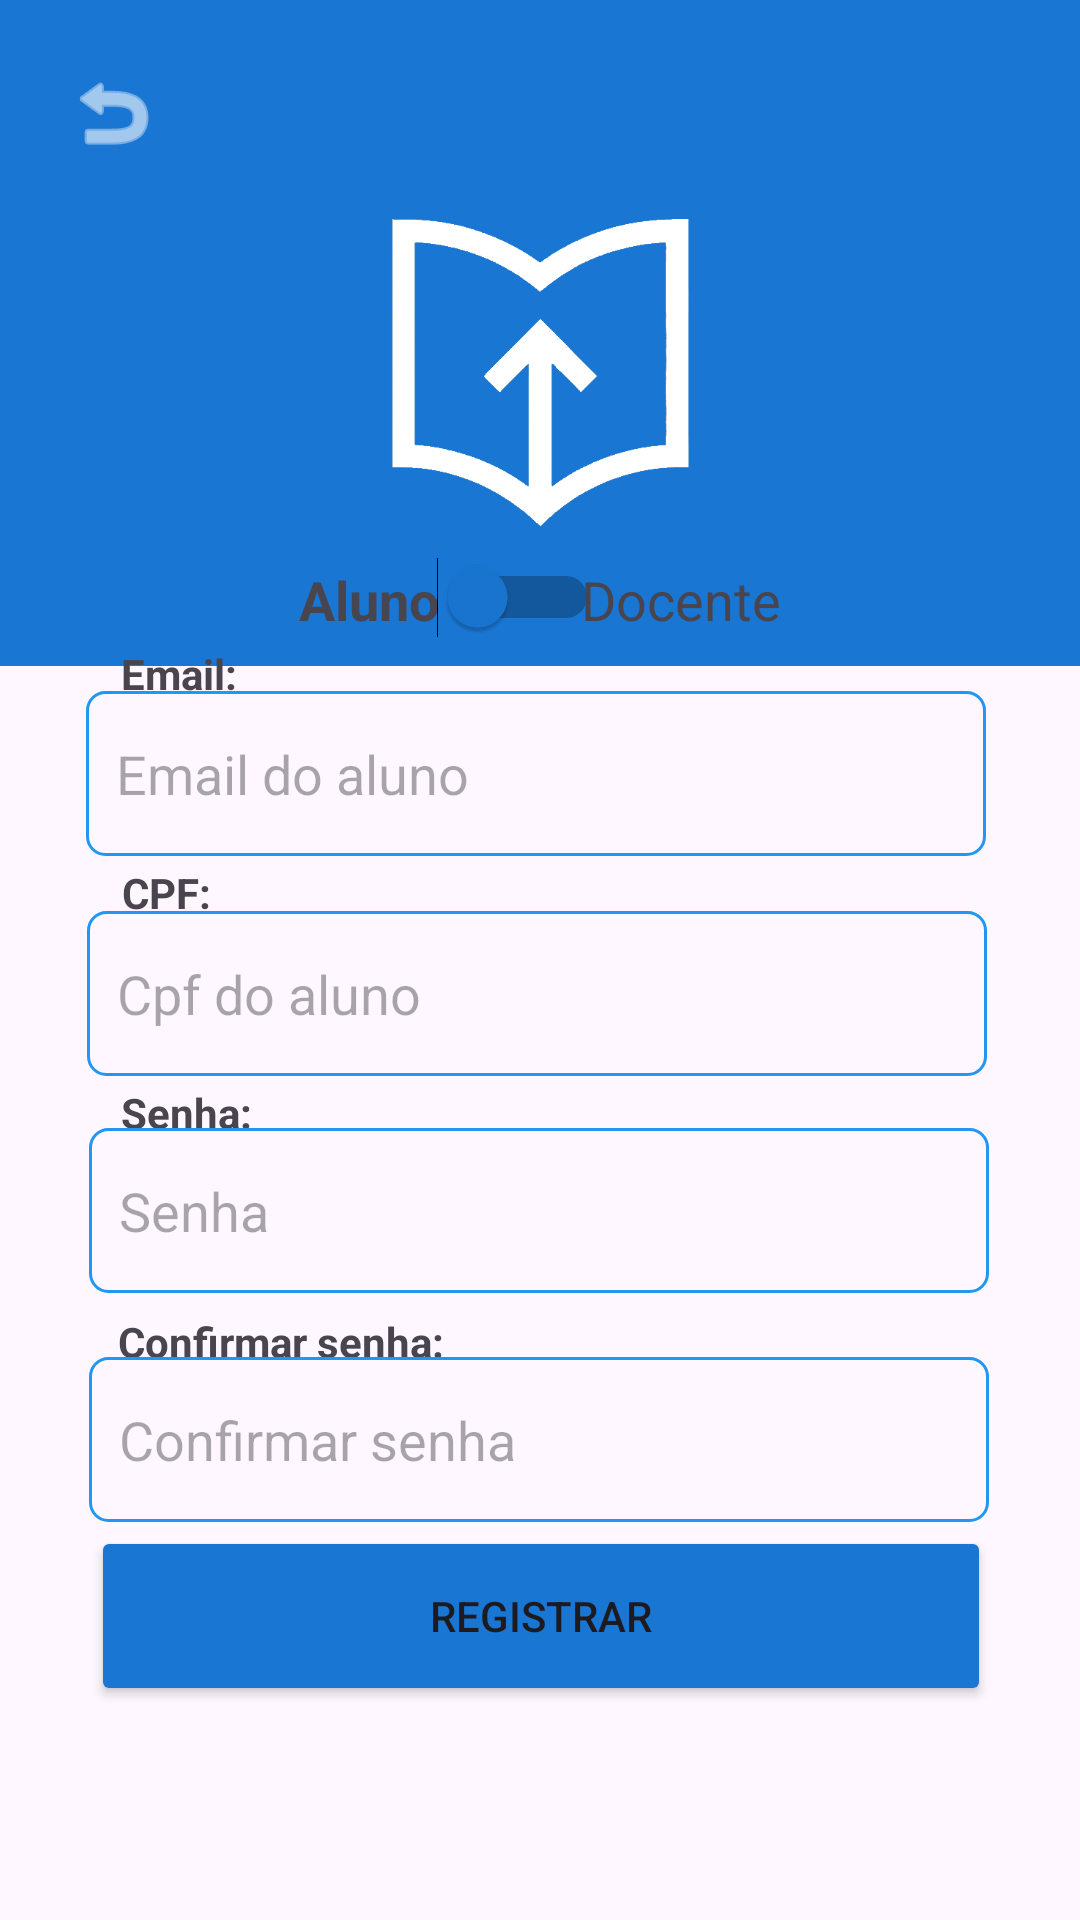

Point at icon controls on the screen. Image size 1080x1920, points as (x,y).
Voltar: (114,113)
